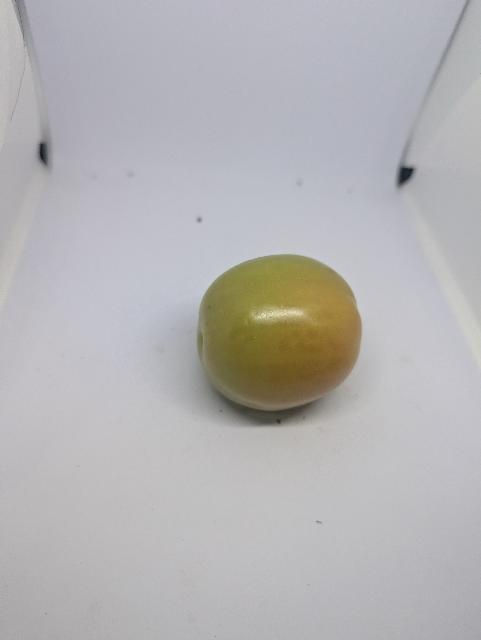breaker: (193, 253, 367, 417)
